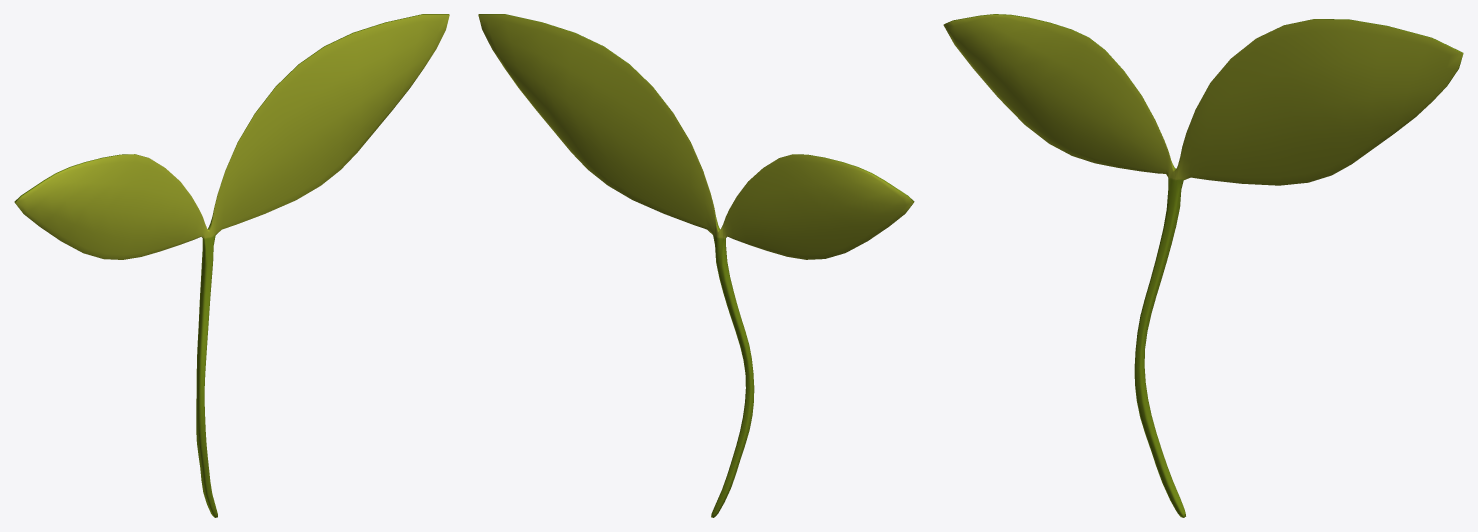
Rendered from bud.fbx.
3 renders of one model, left to right at view 1: azimuth 30°, elevation 25°; view 2: azimuth 150°, elevation 25°; view 3: azimuth 330°, elevation 25°, orthographic. The views are drawn at different scales.
Parts seen in each view (by area): view 1: pCube1; view 2: pCube1; view 3: pCube1.
Part boxes in pixels (x1,y1,x2,y2): pCube1: (14, 14, 449, 517); pCube1: (478, 14, 914, 517); pCube1: (943, 14, 1463, 517).
Bounding box in the file's own units: 8.96 × 8.91 × 0.6762.
